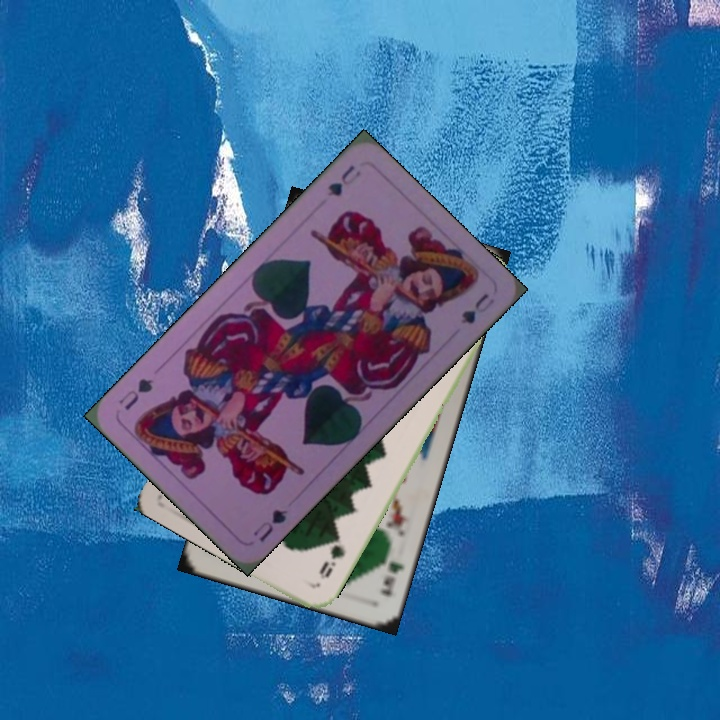G9: (315, 529, 348, 582)
GK: (376, 556, 407, 599)
GU: (249, 505, 291, 545), (323, 161, 364, 200)
